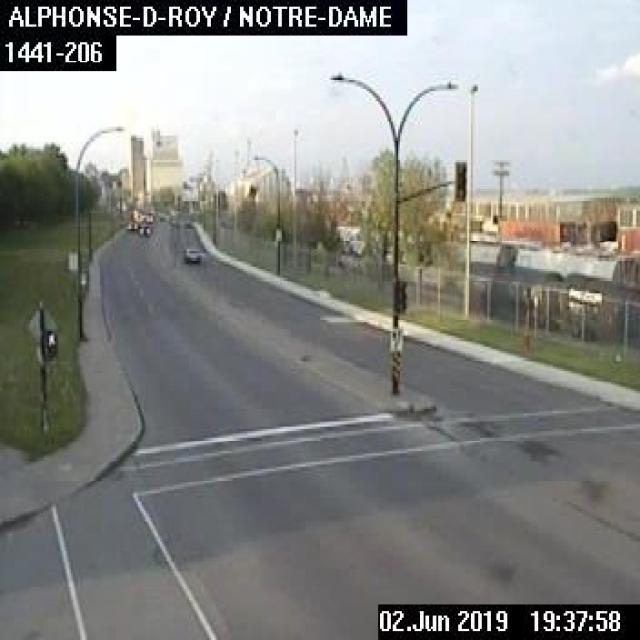vehicle: (183, 246, 206, 262), (135, 221, 152, 238), (126, 220, 137, 231)
